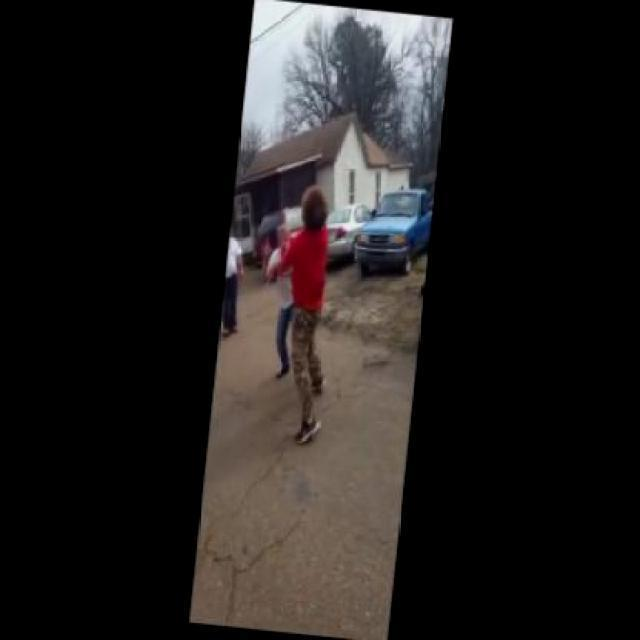fight: (262, 185, 336, 338)
